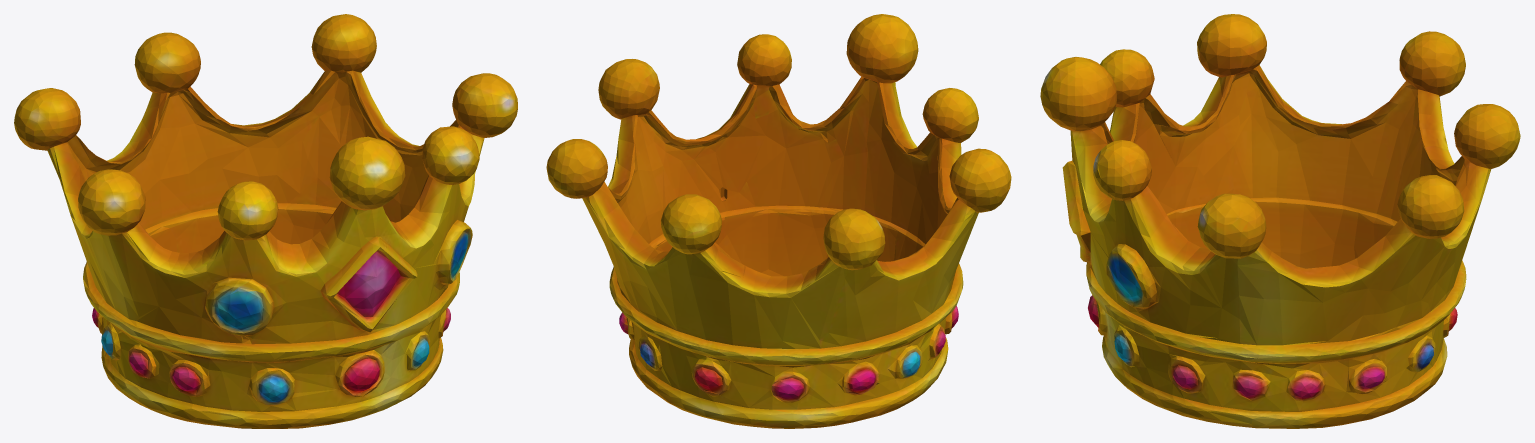
Rendered from couronne.glb.
The picture shows the model from 3 angles, left to right: view 1: azimuth 30°, elevation 25°; view 2: azimuth 150°, elevation 25°; view 3: azimuth 270°, elevation 25°; orthographic projection. The views are drawn at different scales.
Visible parts, largest first — view 1: geometry_0; view 2: geometry_0; view 3: geometry_0.
Boxes of the visible parts, bbox=[...] form: geometry_0: bbox=[14, 14, 517, 428]; geometry_0: bbox=[546, 14, 1011, 428]; geometry_0: bbox=[1040, 14, 1520, 428].
Bounding box in the file's own units: 0.9978 × 0.6675 × 0.9535.
1 material, 1 textured.
